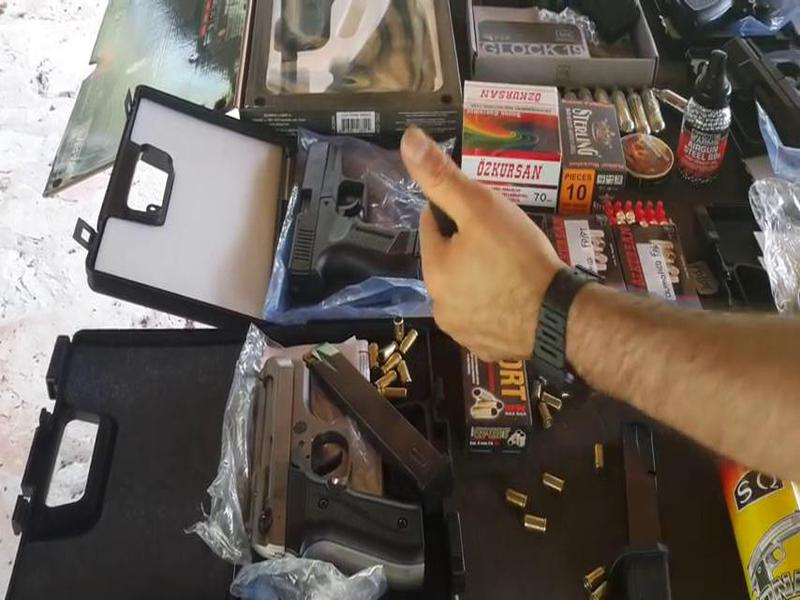Pistola: (226, 343, 426, 574), (263, 124, 448, 304)
